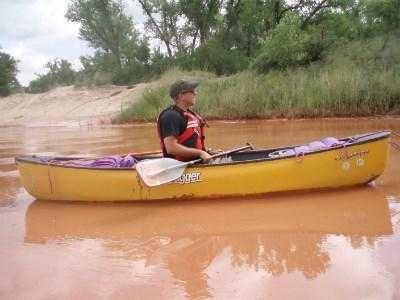kayak: (12, 129, 397, 204)
